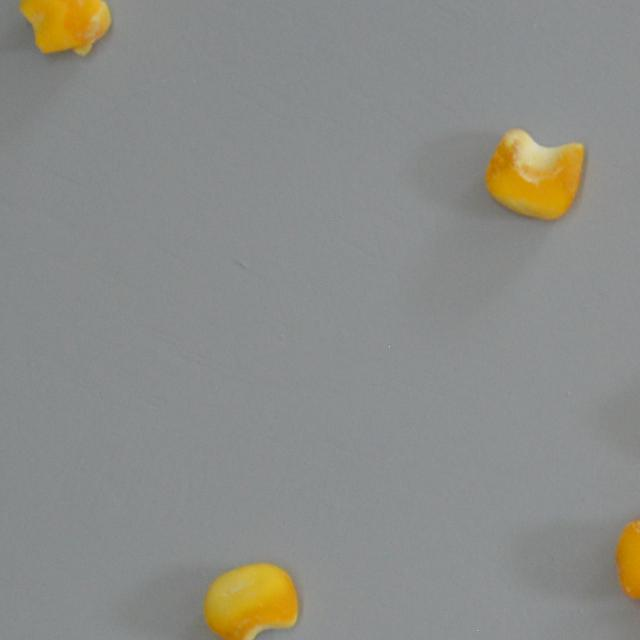no_canjicado: (484, 128, 586, 222), (200, 560, 298, 640)
pelicula: (16, 0, 111, 58), (613, 518, 640, 598)
